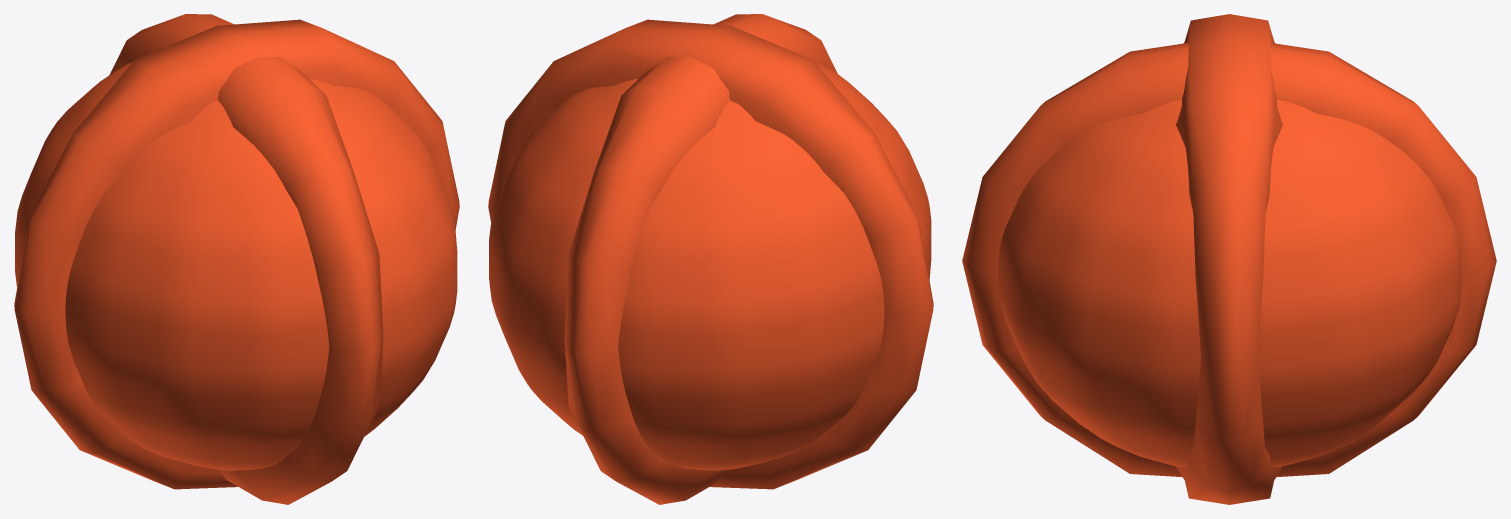
File: nala-ball.glb
3 views of the same model, side by side, from view 1: azimuth 30°, elevation 25°; view 2: azimuth 150°, elevation 25°; view 3: azimuth 270°, elevation 25° (orthographic).
Parts seen in each view (by area): view 1: Ball; view 2: Ball; view 3: Ball.
Boxes of the visible parts, x1,y1,x2,y2 form: Ball: [14, 14, 459, 504]; Ball: [488, 14, 933, 504]; Ball: [962, 14, 1496, 504].
Bounding box in the file's own units: 0.813 × 0.762 × 0.8516.
